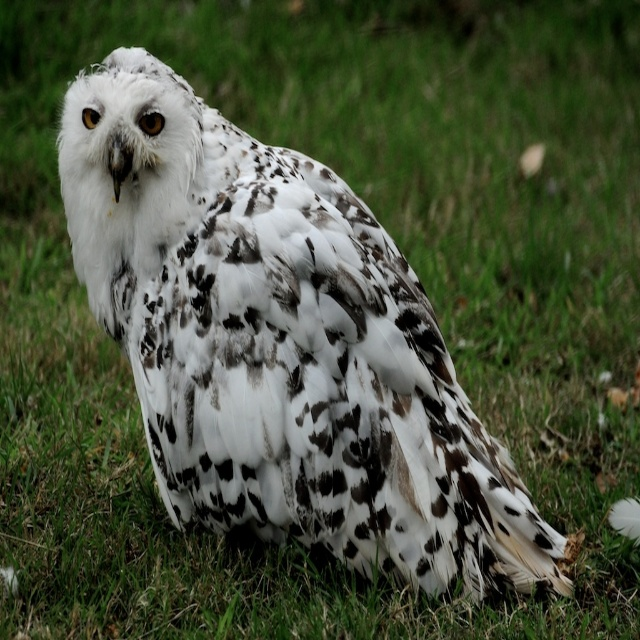Owl: (56, 44, 580, 612)
